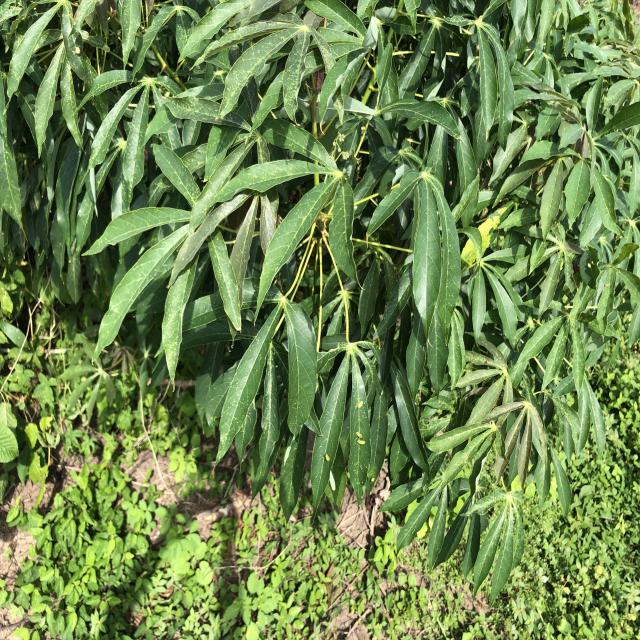Maleza: (10, 500, 381, 637), (6, 337, 116, 633), (538, 519, 631, 640)
Mosca: (353, 429, 374, 452), (351, 397, 365, 415), (367, 471, 380, 490), (319, 447, 331, 467), (69, 38, 80, 58)
